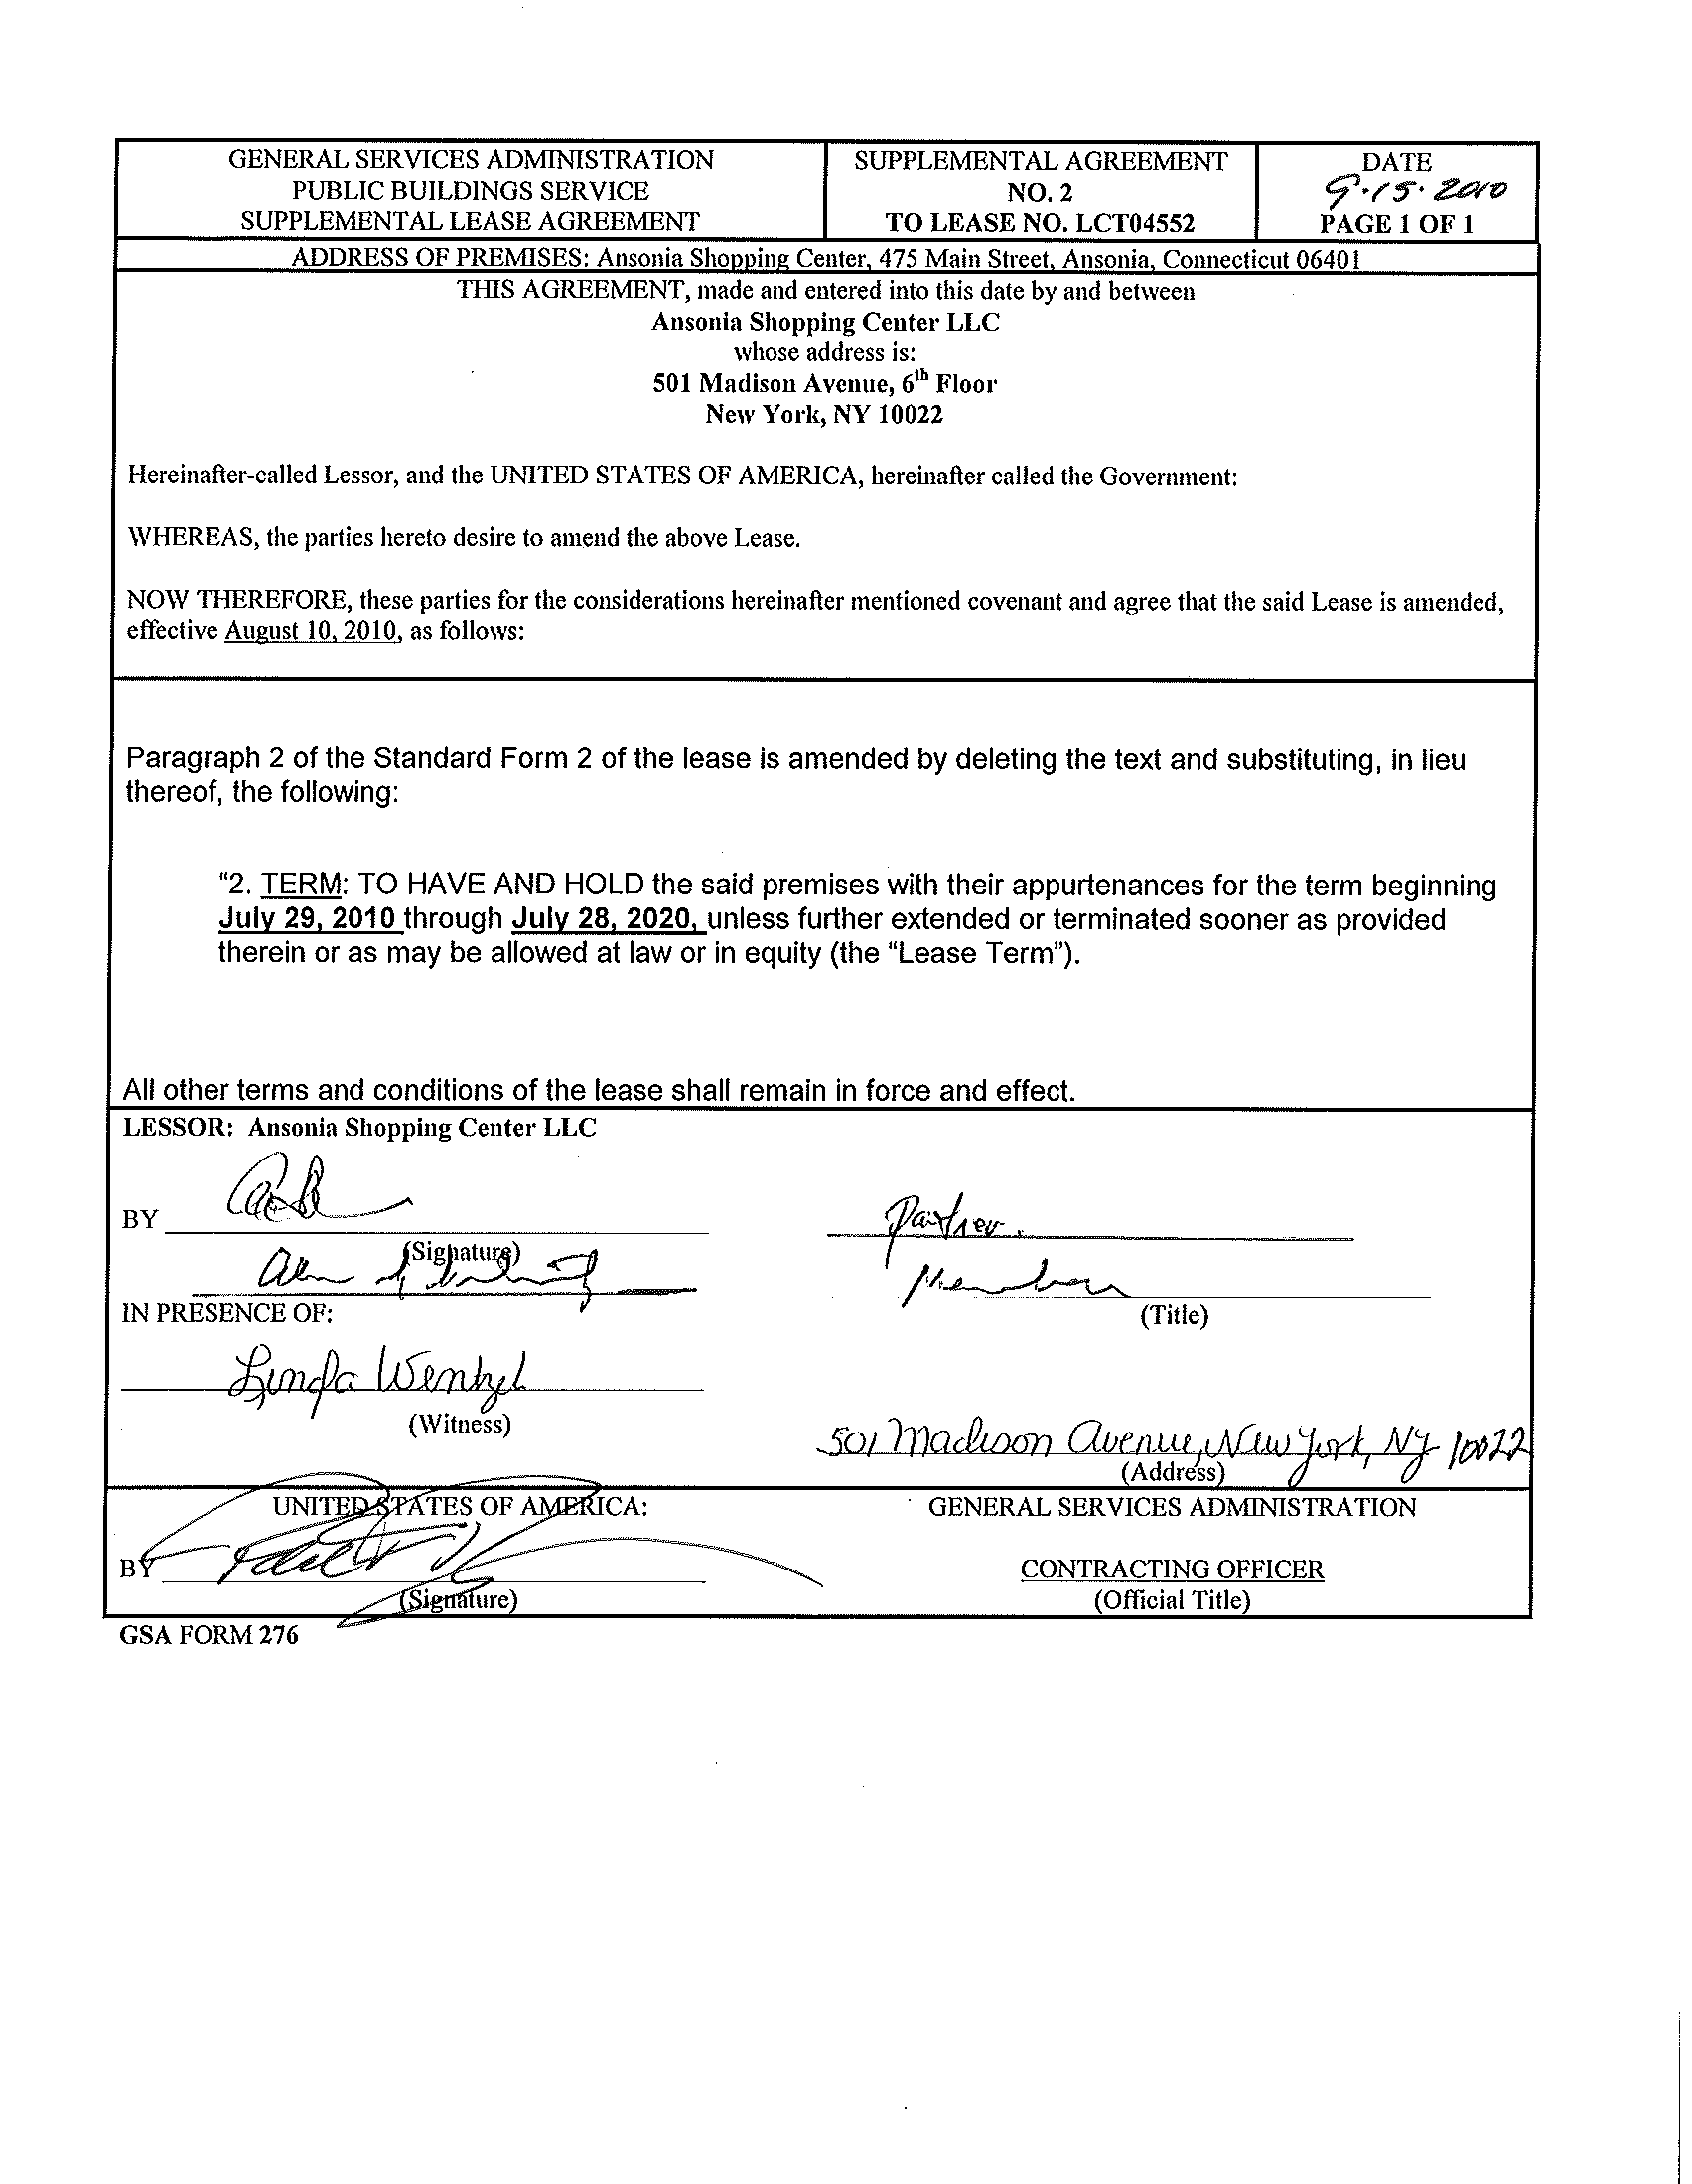handwritten: (168, 1516, 825, 1590), (811, 1406, 1534, 1452), (247, 1244, 706, 1299), (209, 1152, 435, 1220), (901, 1259, 1130, 1319), (158, 1468, 280, 1578), (1291, 161, 1532, 211), (850, 1186, 1025, 1232), (1265, 1459, 1440, 1482), (873, 1189, 908, 1280)
